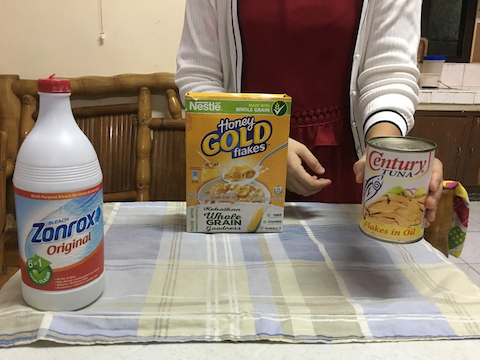bottle: (12, 75, 108, 311)
box: (182, 90, 294, 236)
can: (358, 134, 437, 246)
grab: (418, 157, 448, 230)
